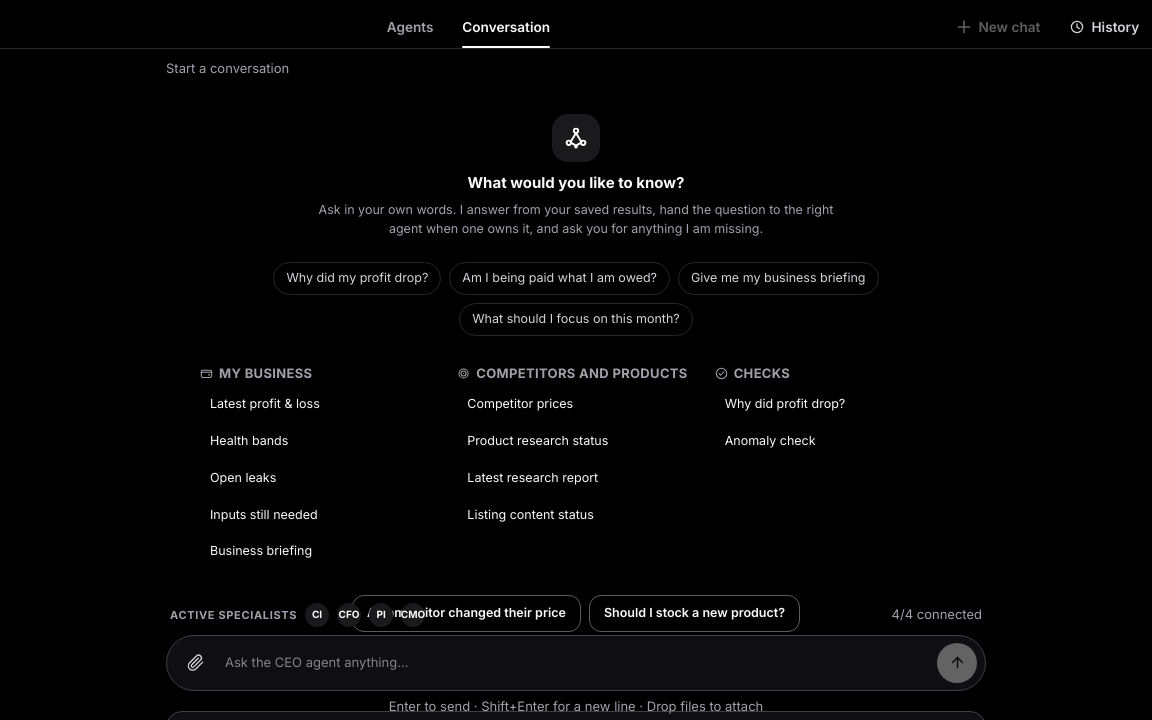
it: loading an investigation › loads metadata, messages, findings with provenance, and the attached agents
Click the button with test id "open-drawer" at [1104, 27], box [1056,8,1151,46]
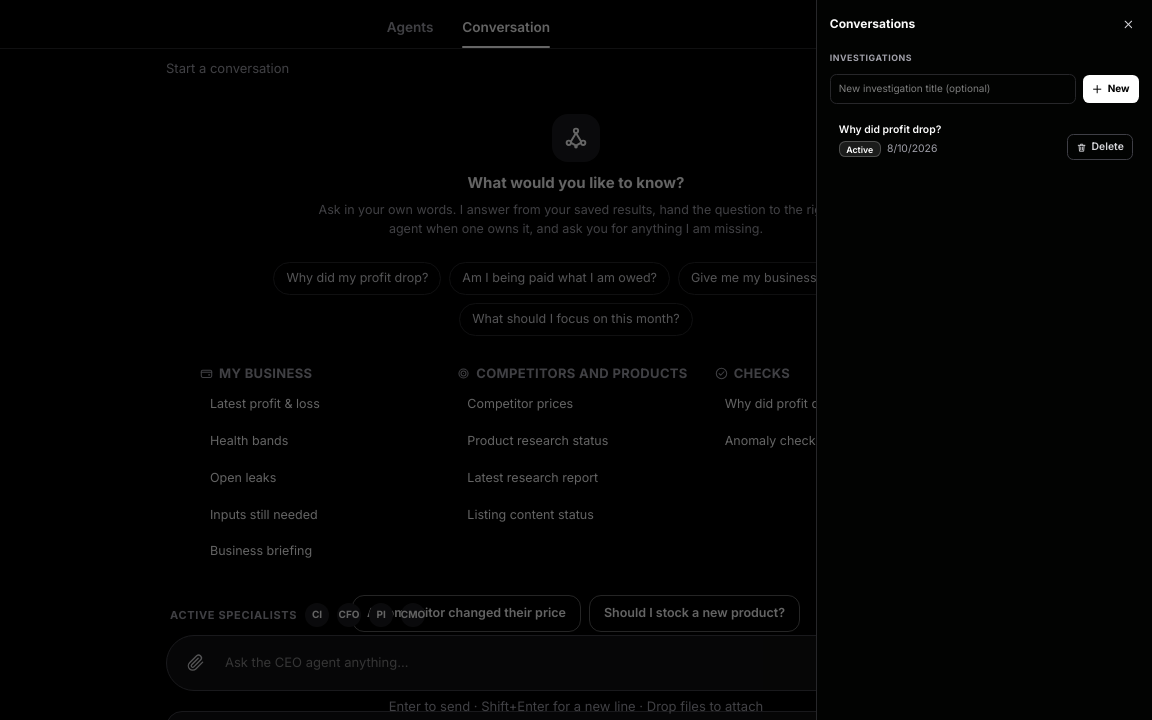
Click the button with test id "investigation-inv-1" at [890, 130], box [830,113,1139,166]
(page scrolled)
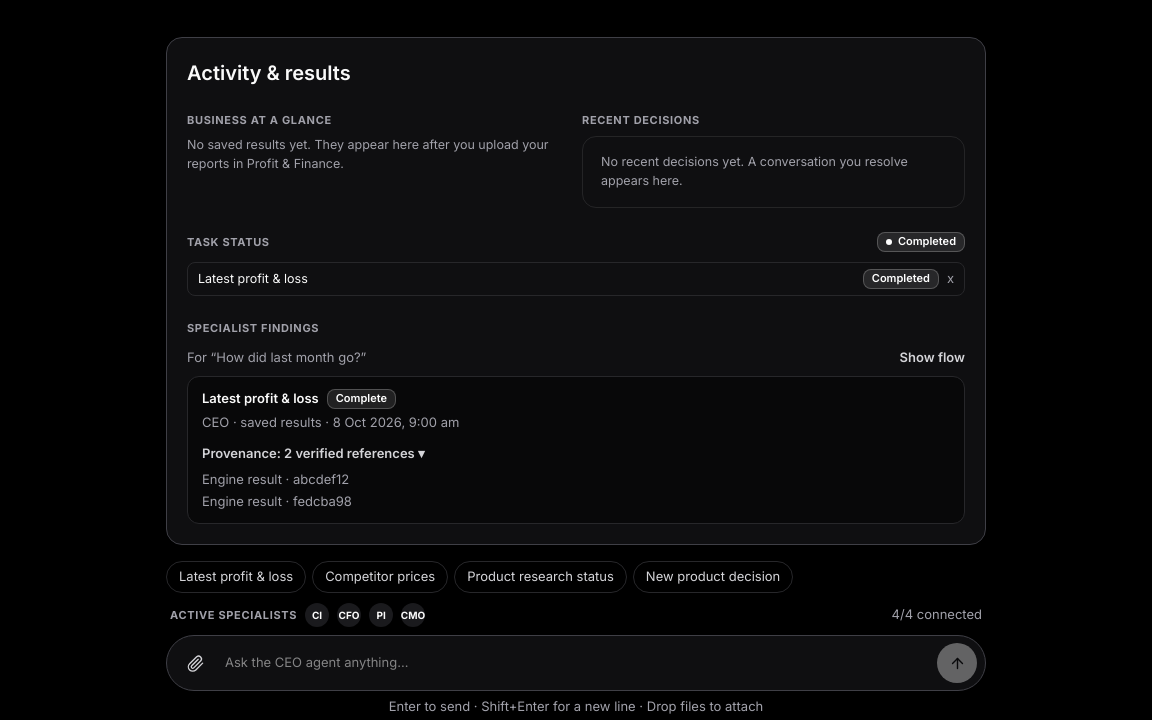
Expected: the text "Latest profit & loss" below "For “" is shown, [202,390,319,406]
Expected: the text "CEO · saved results" is shown, [202,414,322,430]
Expected: the button "Provenance: 2 verified references ▾" is shown, [202,444,424,464]
